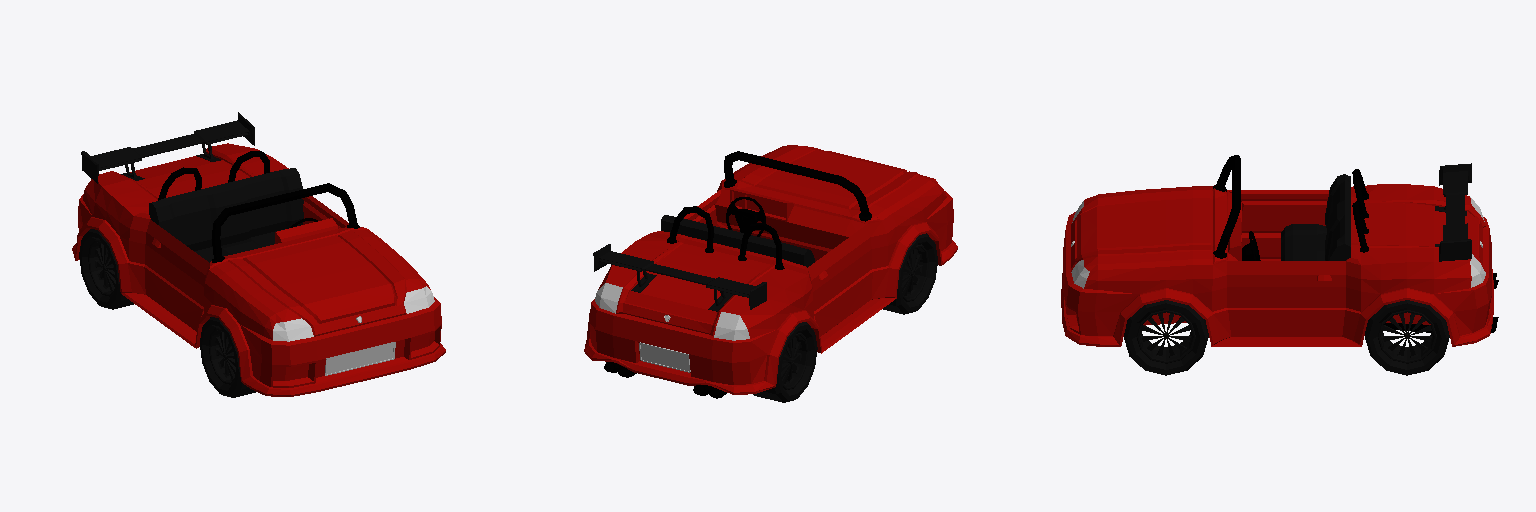
The model's file is basiccar.obj.
3 renders of one model, left to right at view 1: azimuth 30°, elevation 25°; view 2: azimuth 150°, elevation 25°; view 3: azimuth 270°, elevation 25°, orthographic.
Parts seen in each view (by area): view 1: carrozzeria_meshId7_name, sedile_meshId11_name, spoiler_meshId6_name, marmitta_e_tubi_meshId4_name, ruota_b_dx_meshId2_name, ruota_f_dx_meshId3_name, proiettori_meshId10_name, targhe_meshId5_name; view 2: carrozzeria_meshId7_name, marmitta_e_tubi_meshId4_name, spoiler_meshId6_name, ruota_b_dx_meshId2_name, ruota_f_dx_meshId3_name, sedile_meshId11_name, proiettori_meshId10_name, targhe_meshId5_name, volante_meshId9_name; view 3: carrozzeria_meshId7_name, ruota_b_sx_meshId1_name, ruota_f_sx_meshId0_name, sedile_meshId11_name, spoiler_meshId6_name, marmitta_e_tubi_meshId4_name, proiettori_meshId10_name.
Boxes of the visible parts, box(x1,y1,x2,y2) form: carrozzeria_meshId7_name: box(72, 143, 445, 396); sedile_meshId11_name: box(149, 168, 303, 262); spoiler_meshId6_name: box(81, 112, 254, 183); marmitta_e_tubi_meshId4_name: box(158, 151, 359, 262); ruota_b_dx_meshId2_name: box(79, 229, 133, 309); ruota_f_dx_meshId3_name: box(200, 317, 255, 397); proiettori_meshId10_name: box(273, 286, 434, 341); targhe_meshId5_name: box(325, 342, 395, 375); carrozzeria_meshId7_name: box(584, 145, 957, 394); marmitta_e_tubi_meshId4_name: box(604, 151, 871, 398); spoiler_meshId6_name: box(593, 244, 766, 311); ruota_b_dx_meshId2_name: box(753, 322, 817, 402); ruota_f_dx_meshId3_name: box(883, 233, 937, 314); sedile_meshId11_name: box(661, 215, 814, 267); proiettori_meshId10_name: box(595, 283, 749, 340); targhe_meshId5_name: box(639, 342, 690, 372); volante_meshId9_name: box(726, 197, 765, 236); carrozzeria_meshId7_name: box(1061, 184, 1493, 346); ruota_b_sx_meshId1_name: box(1365, 300, 1449, 375); ruota_f_sx_meshId0_name: box(1124, 300, 1208, 375); sedile_meshId11_name: box(1281, 174, 1350, 260); spoiler_meshId6_name: box(1435, 163, 1471, 261); marmitta_e_tubi_meshId4_name: box(1213, 155, 1498, 332); proiettori_meshId10_name: box(1071, 197, 1485, 288).
Size of the model in its own units: 0.9974 by 0.7644 by 2.